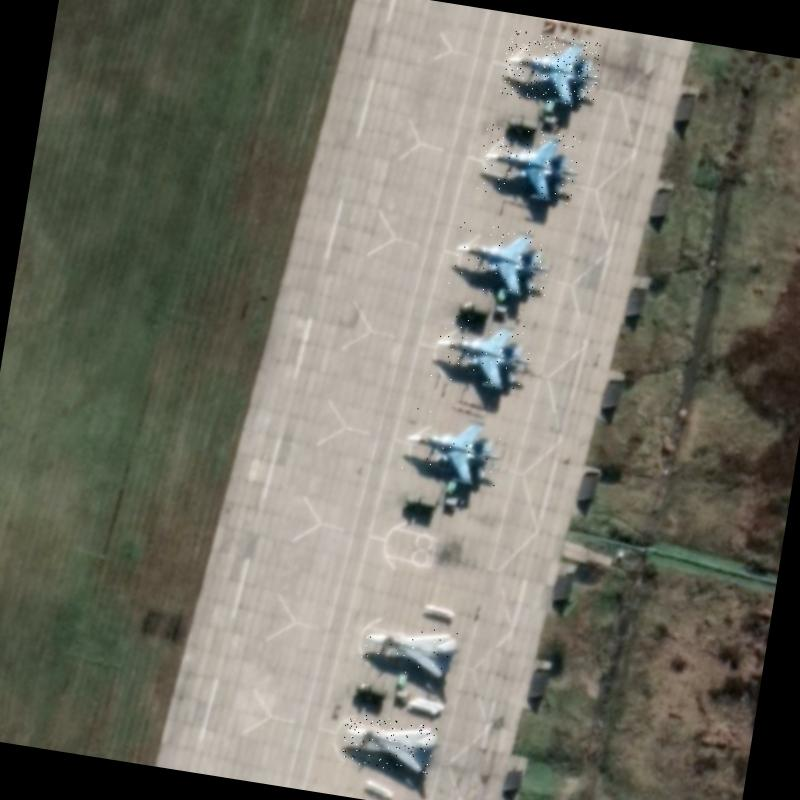A19: (397, 406, 506, 489), (446, 218, 554, 301), (428, 312, 536, 394), (476, 121, 581, 205), (499, 28, 603, 110)
A20: (338, 711, 438, 776), (358, 618, 458, 682)
